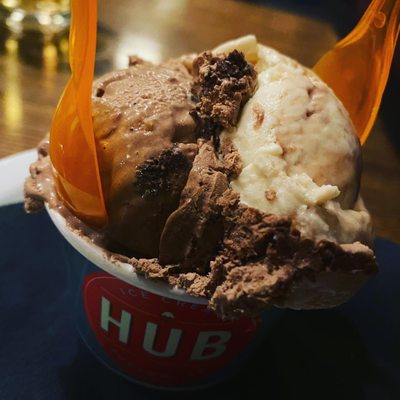pizza: (312, 0, 400, 146)
